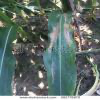Corn leaf blight: (42, 10, 74, 94)
